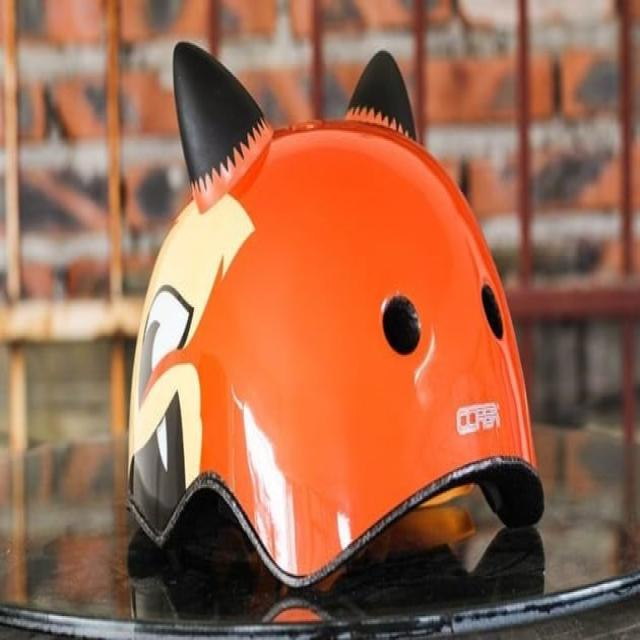Helmet: (116, 36, 552, 598)
